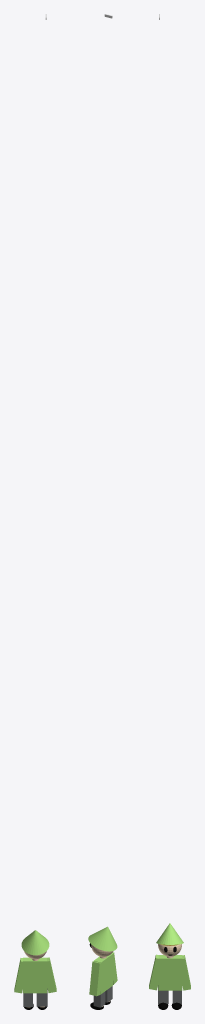
File: SweaterJimmy.fbx
3 views of the same model, side by side, from view 1: azimuth 90°, elevation 25°; view 2: azimuth 150°, elevation 25°; view 3: azimuth 270°, elevation 25° (orthographic).
Parts seen in each view (by area): view 1: Mouth; view 2: Mouth; view 3: Mouth.
Part boxes in pixels (x1=…): Mouth: x1=14, y1=930, x2=56, y2=1009; Mouth: x1=88, y1=926, x2=117, y2=1009; Mouth: x1=149, y1=923, x2=190, y2=1009.
Bounding box in the file's own units: 247 × 9089 × 349.
